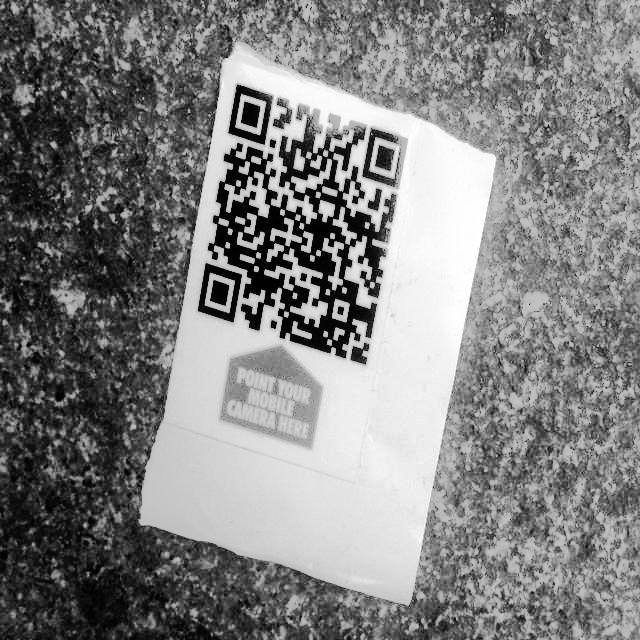qr_code: (197, 84, 407, 366)
